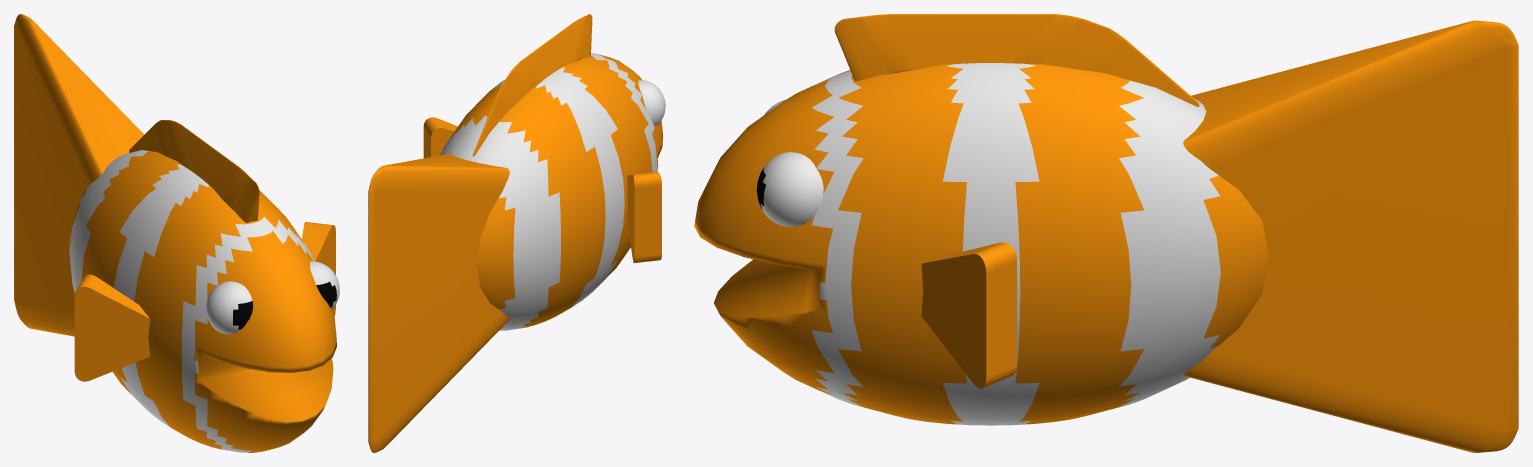
Rendered from nemo.glb.
3 renders of one model, left to right at view 1: azimuth 30°, elevation 25°; view 2: azimuth 150°, elevation 25°; view 3: azimuth 270°, elevation 25°, orthographic. The views are drawn at different scales.
Parts seen in each view (by area): view 1: Sphere, Cube.002, Cube.001, Cube.003, Sphere.001; view 2: Sphere, Cube.002, Cube.003, Cube.001, Sphere.001; view 3: Sphere, Cube.002, Cube.003, Cube.001, Sphere.001.
Boxes of the visible parts, x1,y1,x2,y2 form: Sphere: (69, 150, 336, 452); Cube.002: (14, 14, 144, 336); Cube.001: (74, 222, 335, 381); Cube.003: (129, 120, 259, 222); Sphere.001: (206, 261, 339, 334); Sphere: (440, 53, 662, 330); Cube.002: (368, 154, 509, 452); Cube.003: (473, 14, 592, 156); Cube.001: (423, 117, 661, 263); Sphere.001: (638, 80, 665, 125); Sphere: (694, 63, 1269, 425); Cube.002: (1183, 20, 1518, 452); Cube.003: (834, 14, 1199, 106); Cube.001: (921, 242, 1016, 388); Sphere.001: (756, 99, 823, 226).
Size of the model in its own units: 2.08 by 2.39 by 4.08.
